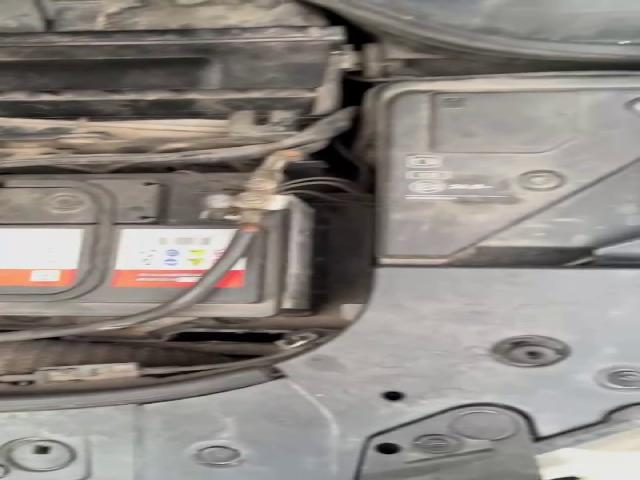accumulator: (0, 171, 323, 318)
fuse_box: (373, 93, 640, 261)
